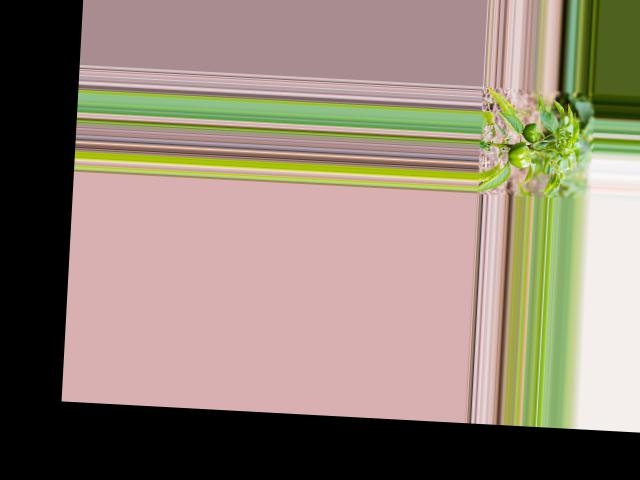bell_pepper: (520, 121, 541, 143)
